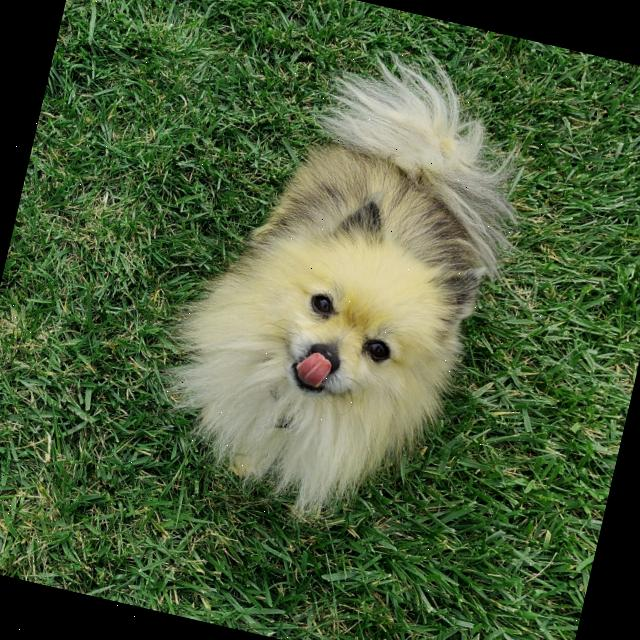pomeranian_dog: (208, 165, 505, 497)
